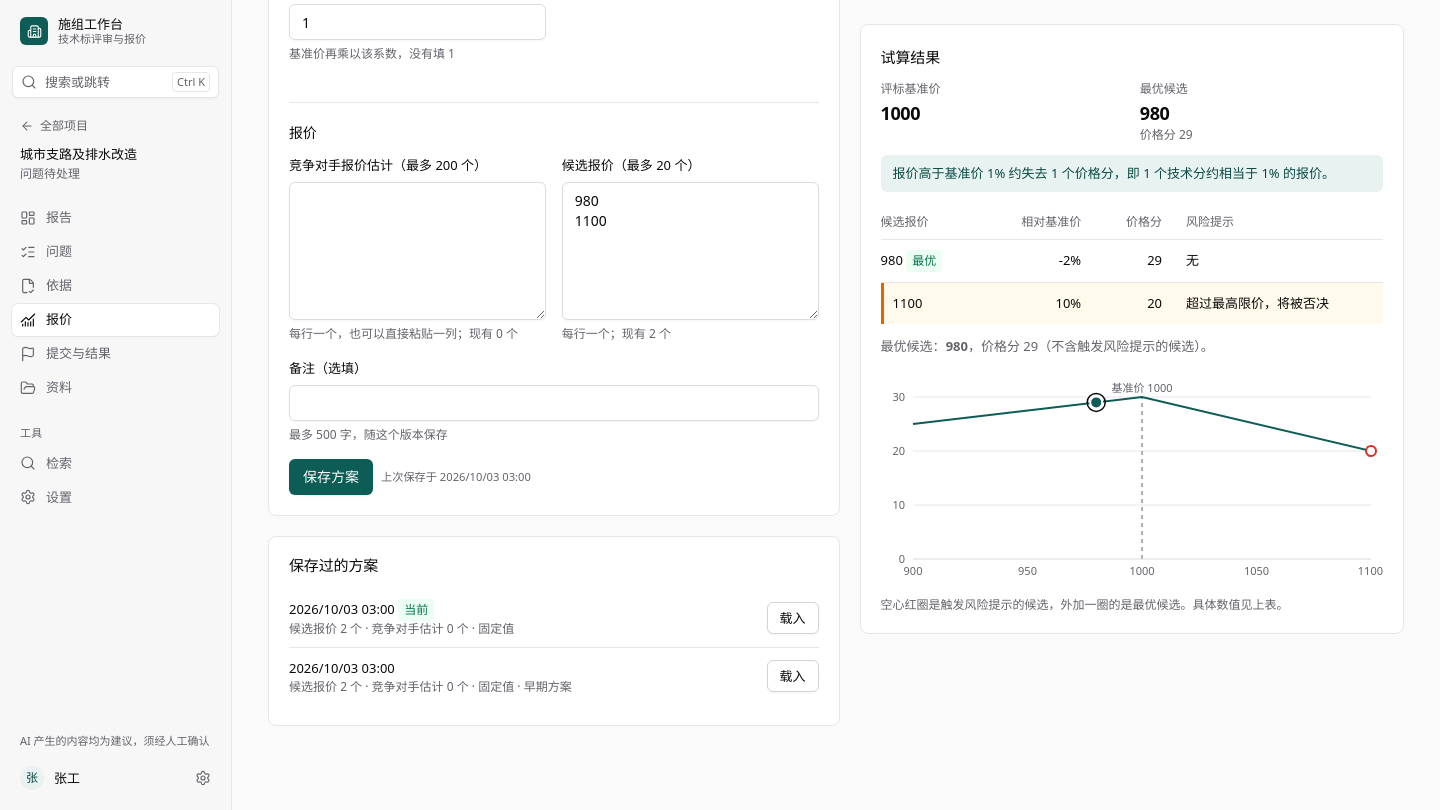
Test: 报价页：保存与历史 › 后端拒绝保存：显示后端消息
(page scrolled)
Click the button "保存方案" at (331, 477), box [289, 459, 373, 495]
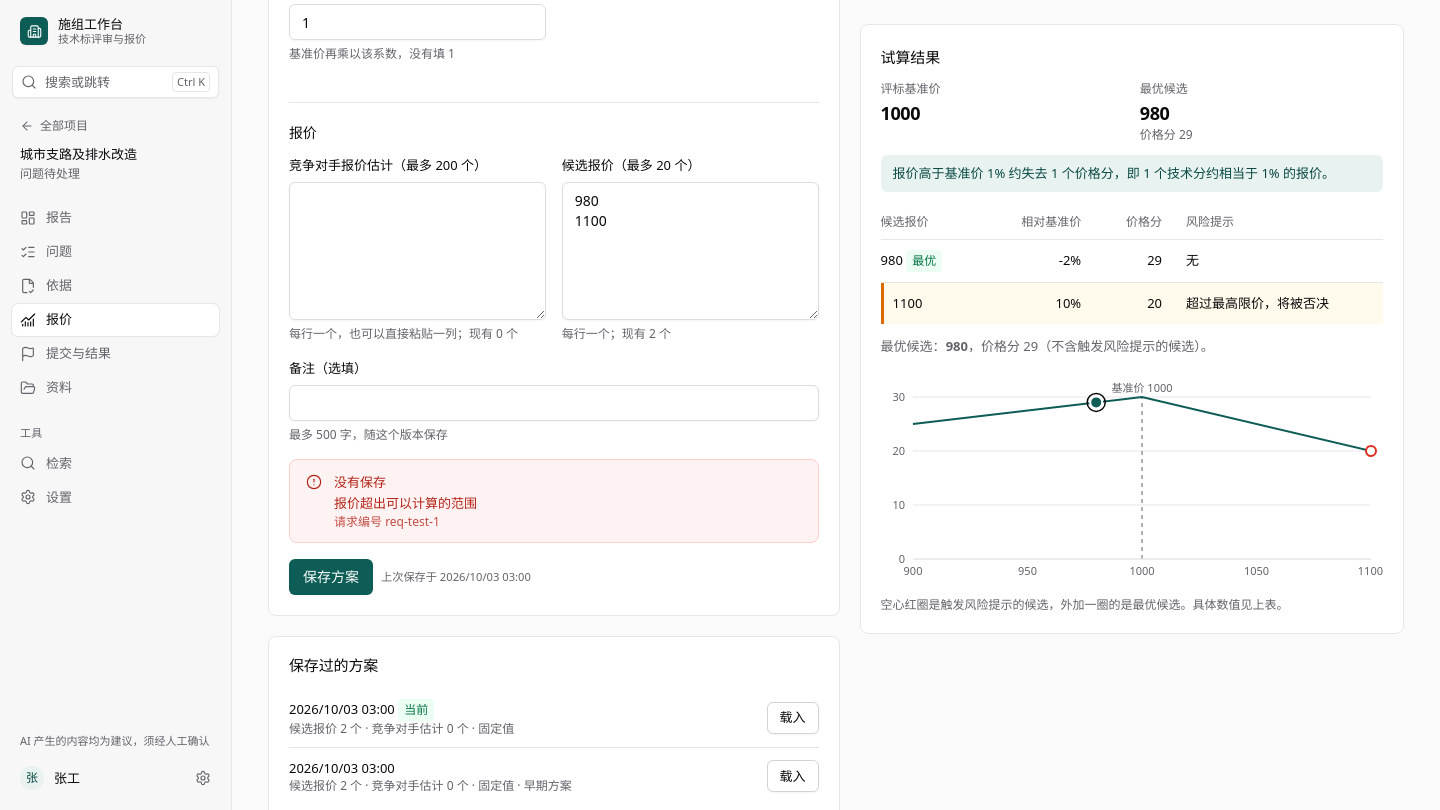
Check: the text "报价超出可以计算的范围" is shown, box [334, 494, 477, 512]
